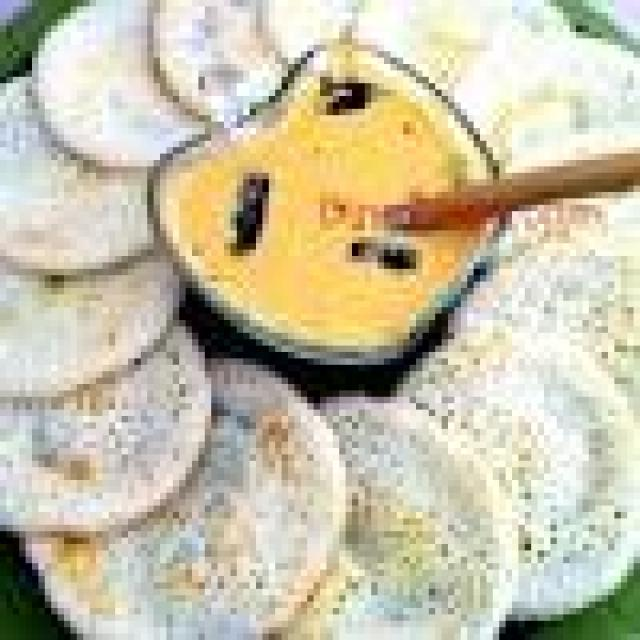dosa: (39, 371, 314, 621), (403, 326, 634, 557), (282, 403, 499, 634), (0, 307, 179, 525), (474, 192, 634, 410), (0, 70, 179, 262), (0, 205, 166, 384), (38, 0, 198, 166), (147, 0, 307, 128)
